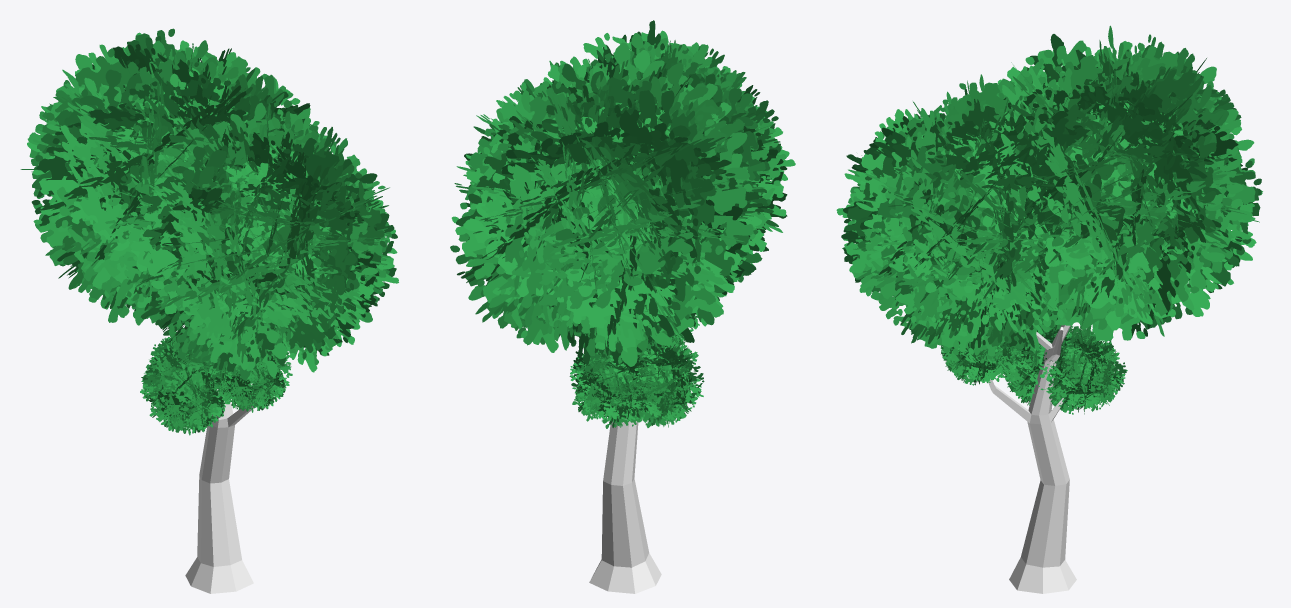
The model's file is Tree2FIXEDagain.glb.
The picture shows the model from 3 angles, left to right: view 1: azimuth 30°, elevation 25°; view 2: azimuth 150°, elevation 25°; view 3: azimuth 270°, elevation 25°; orthographic projection. The views are drawn at different scales.
Parts seen in each view (by area): view 1: Plane.001, Trunk; view 2: Plane.001, Trunk; view 3: Plane.001, Trunk.
Boxes of the visible parts, left/top/right/bottom form: Plane.001: left=20, top=28, right=398, bottom=435; Trunk: left=185, top=383, right=253, bottom=593; Plane.001: left=450, top=20, right=795, bottom=428; Trunk: left=589, top=418, right=661, bottom=593; Plane.001: left=836, top=25, right=1262, bottom=414; Trunk: left=988, top=325, right=1076, bottom=593.
Bounding box in the file's own units: 8.41 × 14.08 × 10.64.
2 materials, 1 textured.
